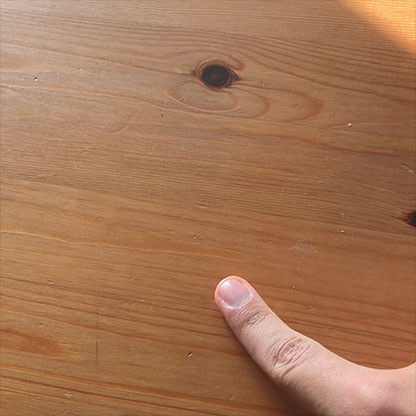fingertip: (209, 270, 261, 325)
